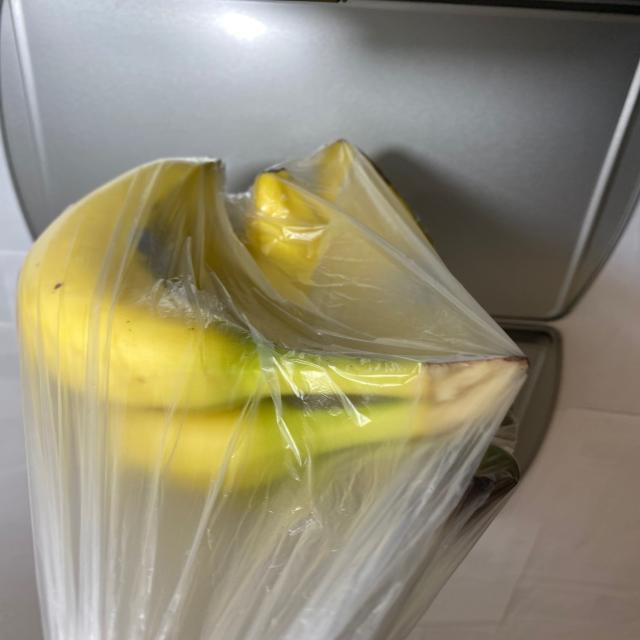banana: (25, 138, 534, 522)
